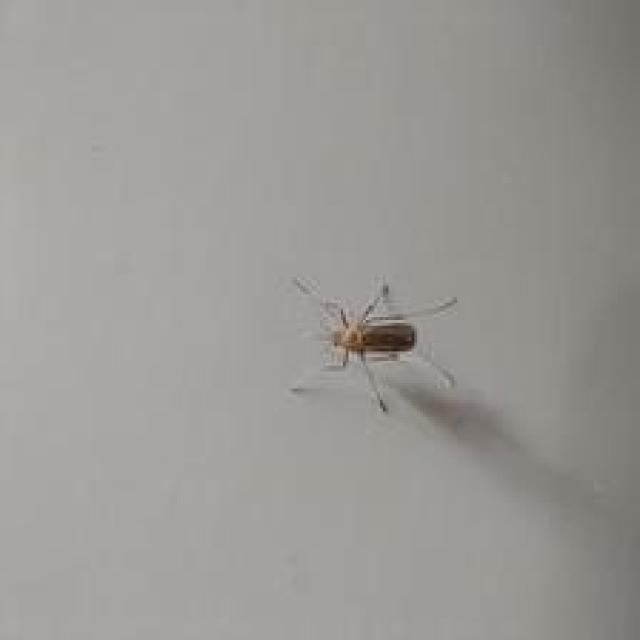Culex: (290, 272, 459, 414)
